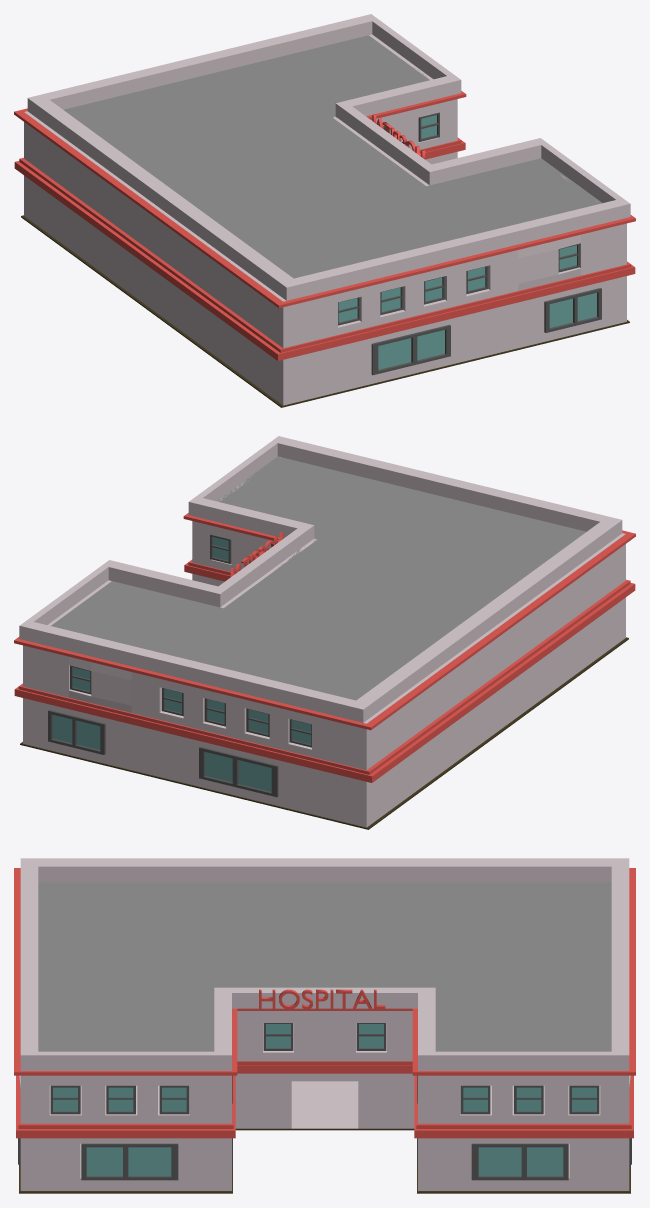
The model's file is hospital.fbx.
3 views of the same model, one above another, from view 1: azimuth 30°, elevation 25°; view 2: azimuth 150°, elevation 25°; view 3: azimuth 270°, elevation 25° (orthographic). The views are drawn at different scales.
Parts seen in each view (by area): view 1: Hospital roof, Hospital Second Floor, Hostpial First Floor; view 2: Hospital roof, Hospital Second Floor, Hostpial First Floor; view 3: Hospital roof, Hostpial First Floor, Hospital Second Floor.
Boxes of the visible parts, left/top/right/bottom form: Hospital roof: left=27, top=14, right=630, bottom=300; Hospital Second Floor: left=14, top=34, right=635, bottom=352; Hostpial First Floor: left=14, top=140, right=635, bottom=407; Hospital roof: left=19, top=436, right=622, bottom=722; Hospital Second Floor: left=14, top=457, right=635, bottom=774; Hostpial First Floor: left=14, top=562, right=635, bottom=829; Hospital roof: left=20, top=858, right=629, bottom=1070; Hostpial First Floor: left=16, top=1065, right=633, bottom=1193; Hospital Second Floor: left=14, top=868, right=635, bottom=1128.
Size of the model in its own units: 61.67 by 20.18 by 79.18.
